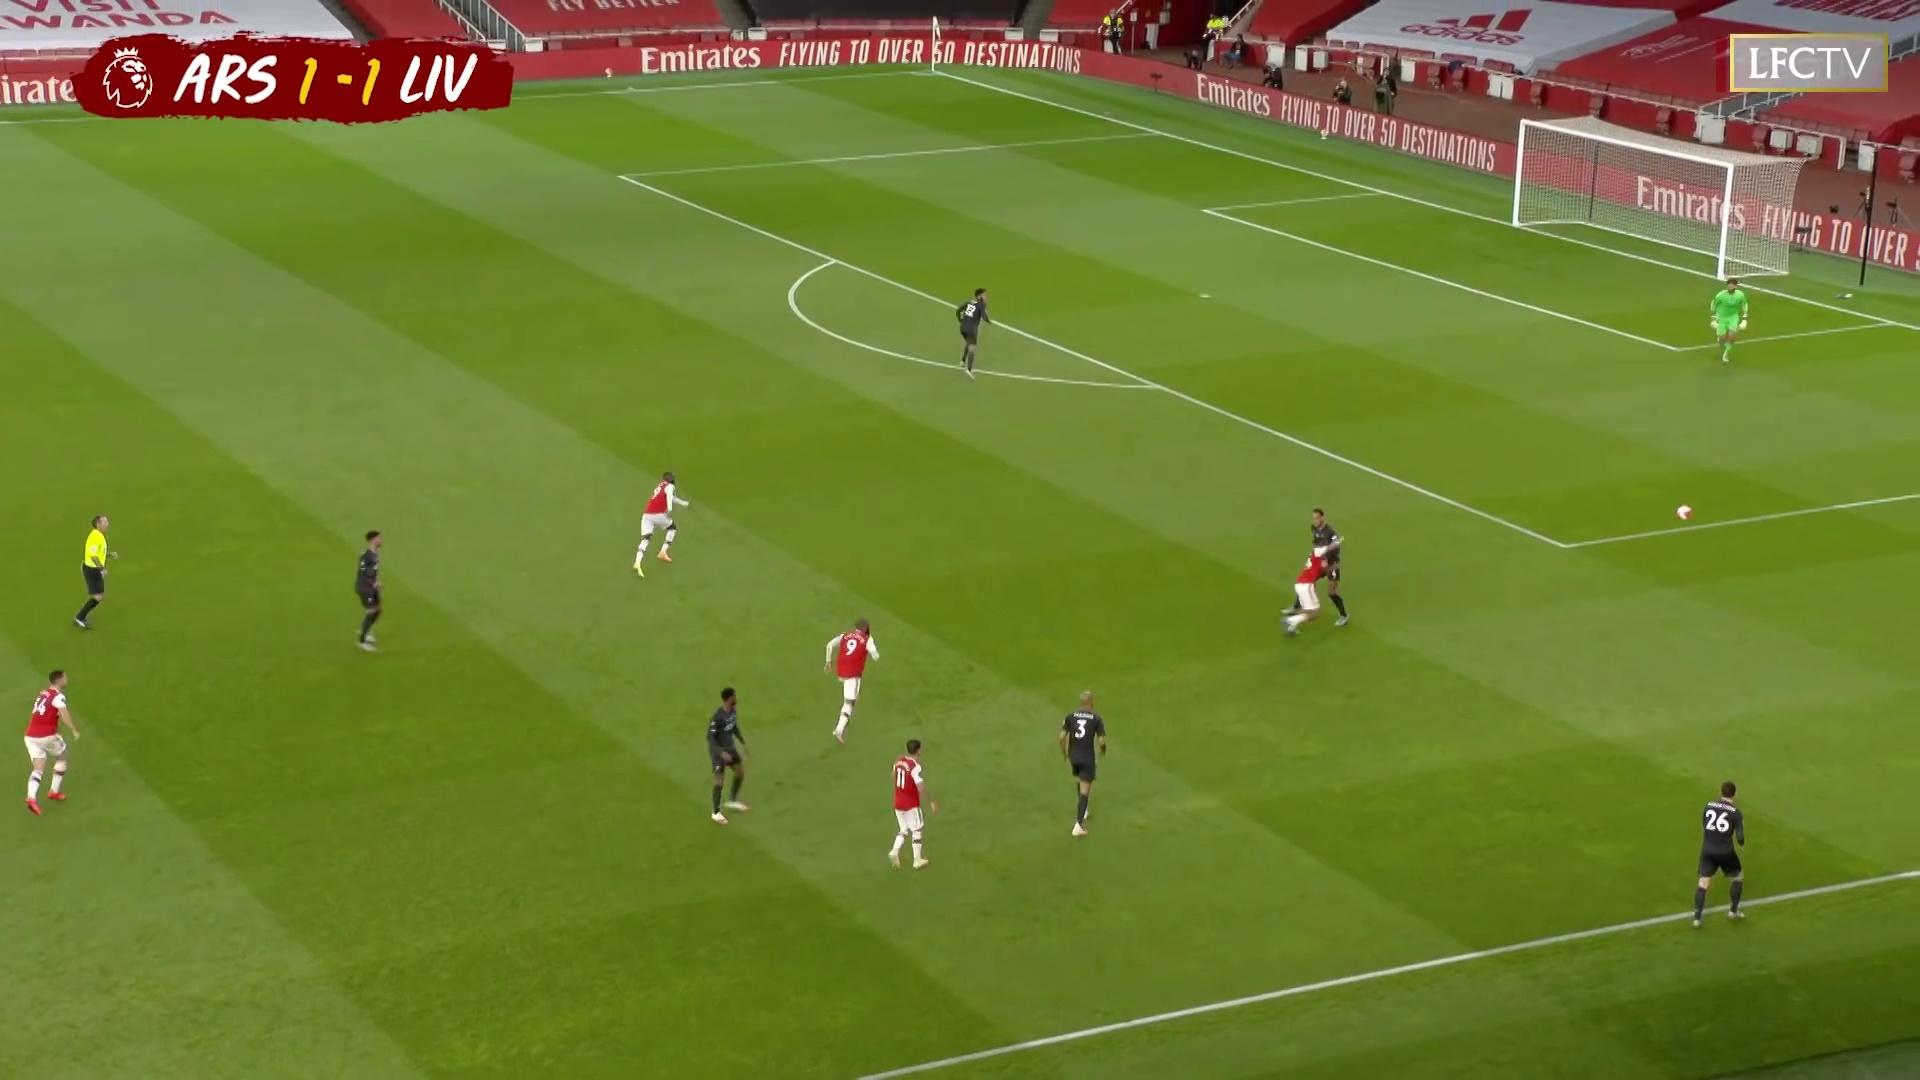ball: (1676, 504, 1696, 524)
